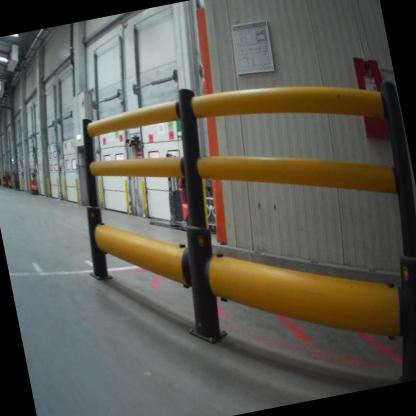pallet_truck: (126, 136, 213, 244), (22, 163, 44, 200), (11, 168, 23, 190), (5, 170, 15, 188), (0, 171, 8, 189)
